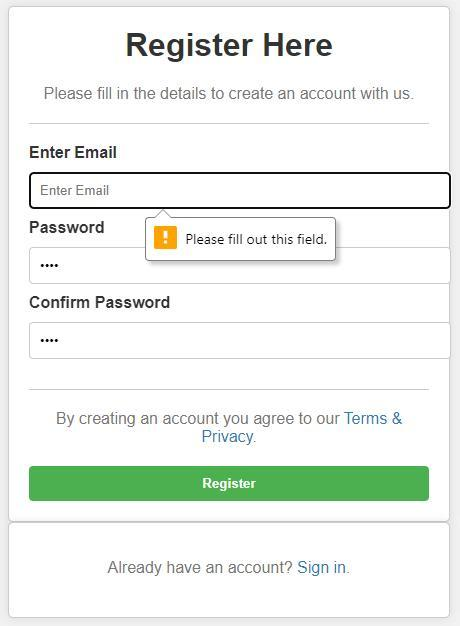button: (30, 468, 430, 502)
input: (29, 323, 453, 360), (31, 174, 451, 210)
label: (27, 293, 174, 313), (28, 143, 123, 160), (24, 219, 108, 238)
